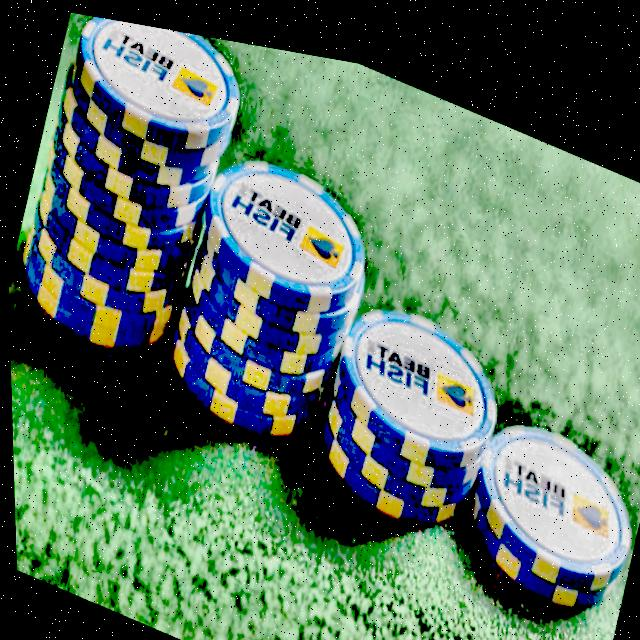Chip: (0, 0, 271, 421), (147, 105, 410, 478), (298, 254, 521, 543), (442, 377, 640, 626)
